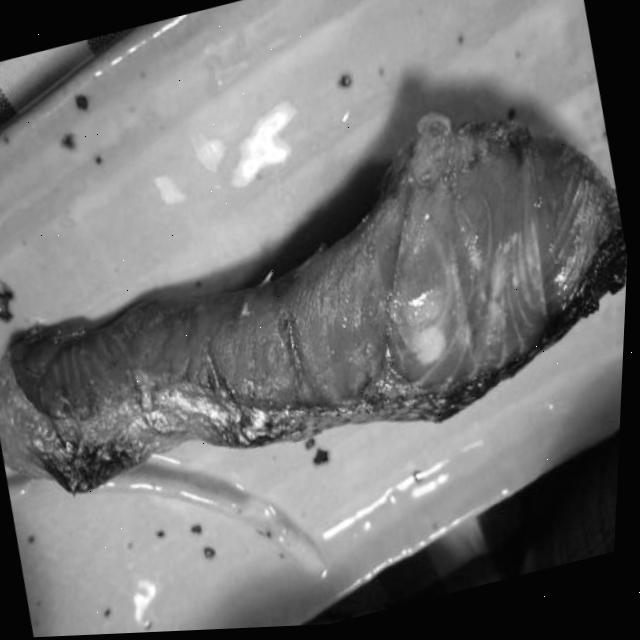熟制海鲜: (0, 71, 637, 559)
